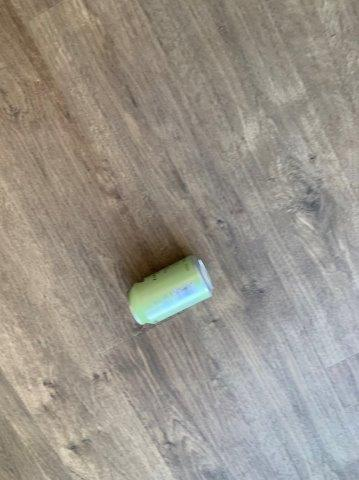kaleng: (128, 256, 212, 325)
